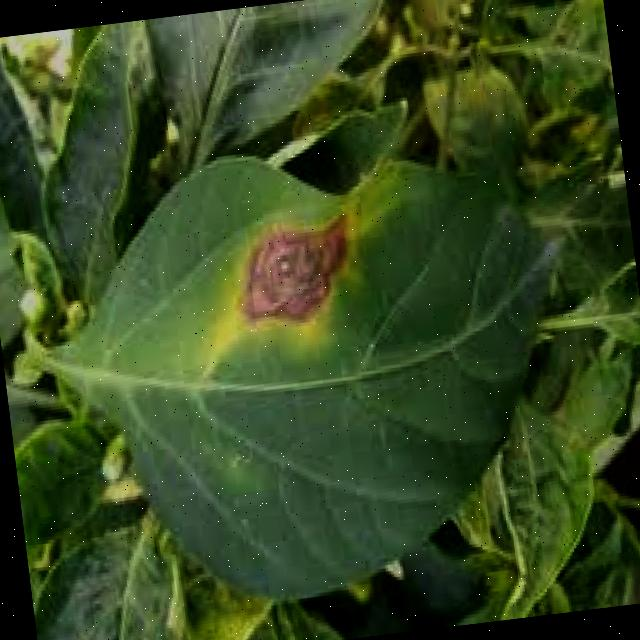leaf spot: (57, 102, 604, 638)
